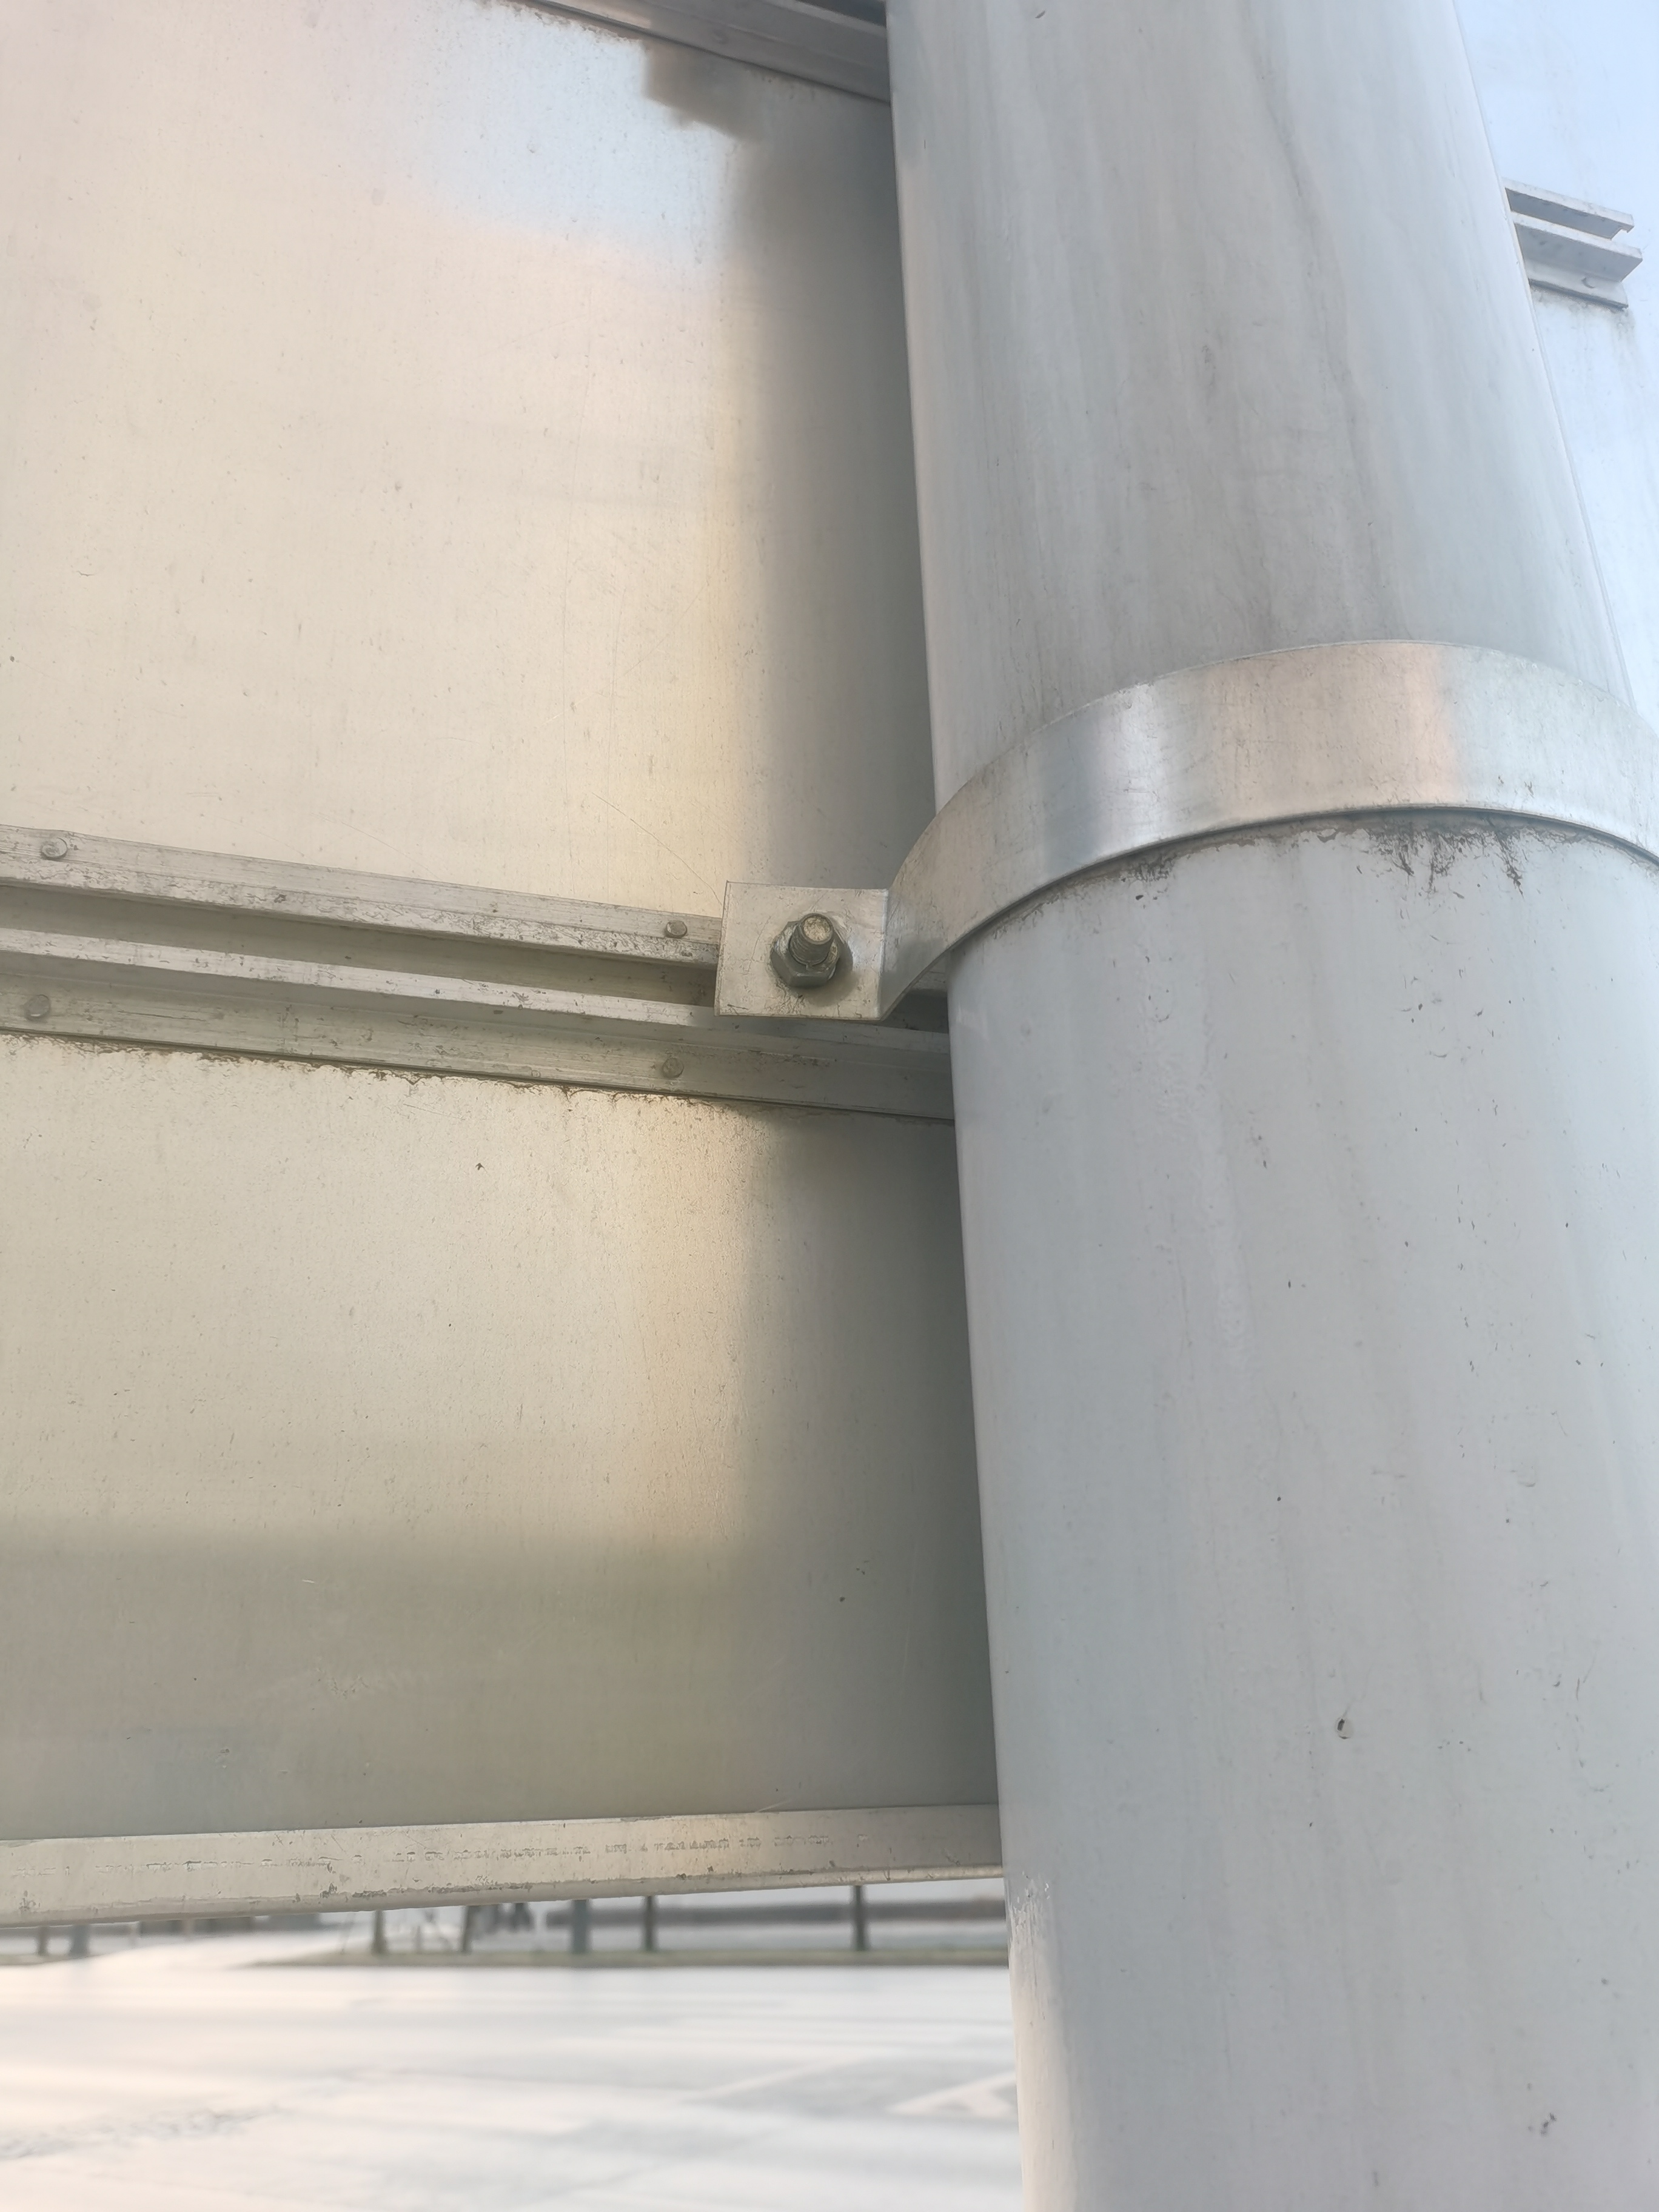bolt_b: (765, 913, 845, 991)
